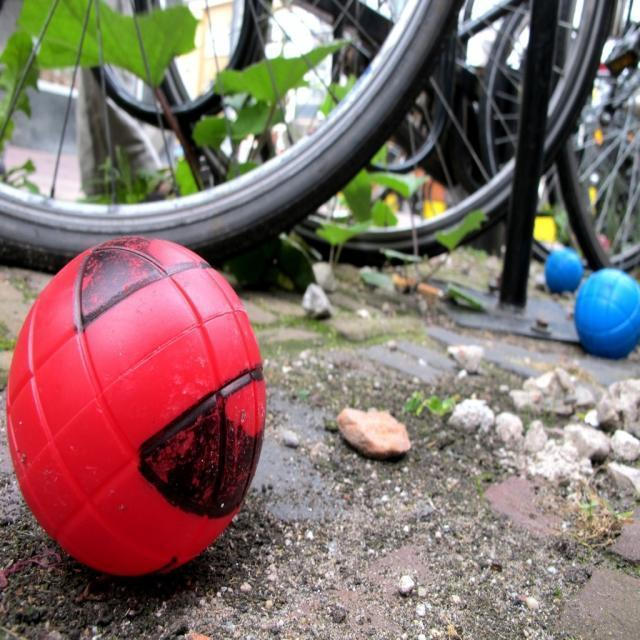ball: (7, 230, 268, 587), (577, 263, 640, 357), (542, 245, 585, 303)
